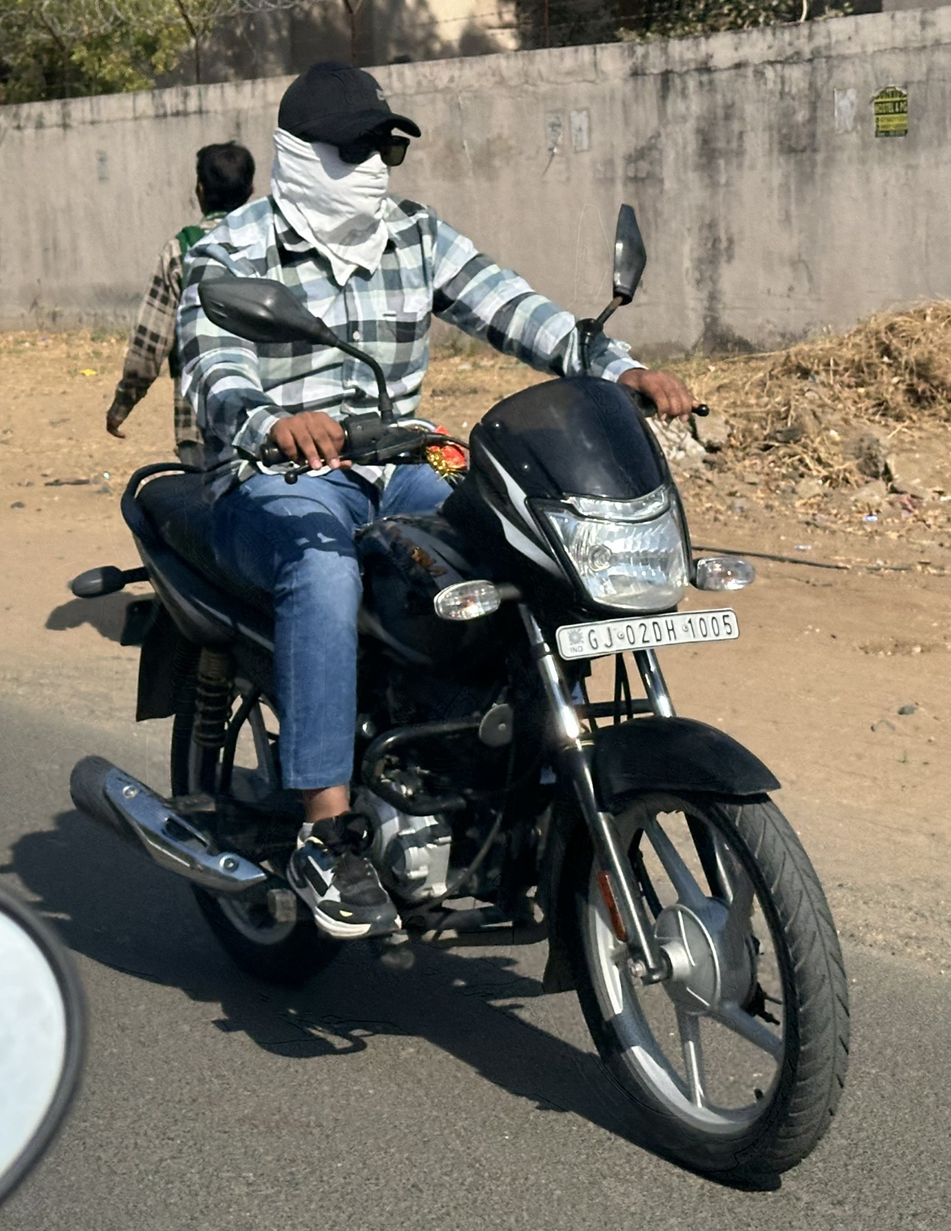BikeWithRider: (48, 51, 870, 1199)
NoHelmet: (255, 55, 424, 239), (180, 130, 269, 227)
